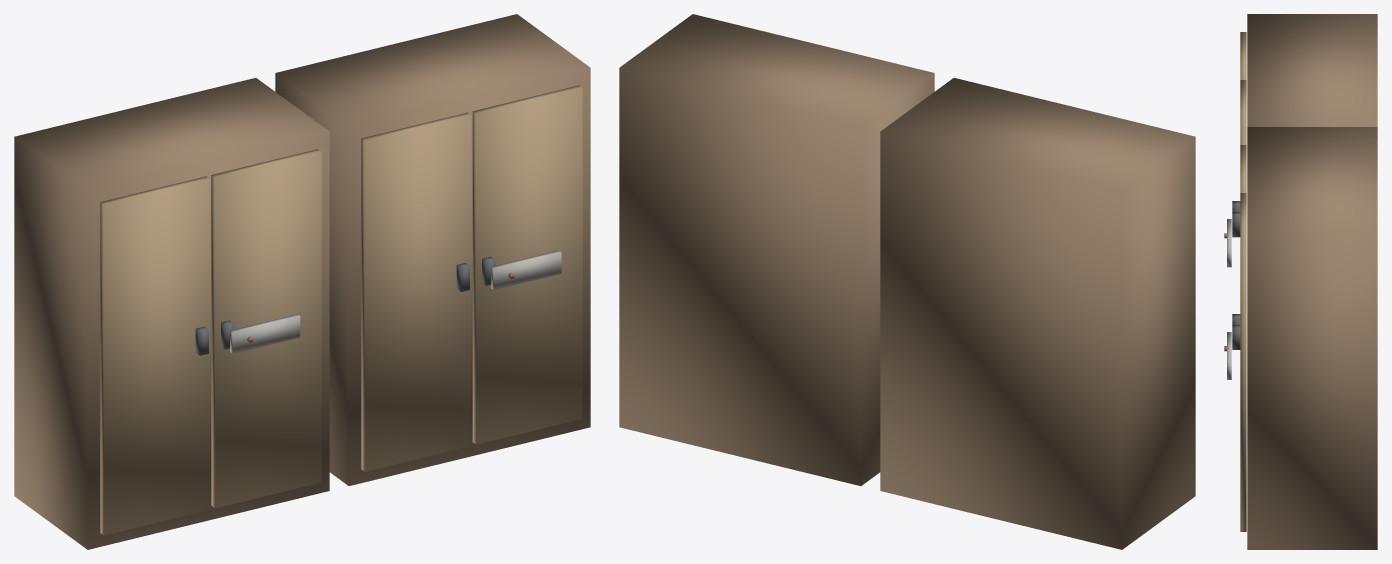
Rendered from photo_chemical_cabinet__cluster.glb.
The picture shows the model from 3 angles, left to right: view 1: azimuth 30°, elevation 25°; view 2: azimuth 150°, elevation 25°; view 3: azimuth 270°, elevation 25°; orthographic projection. The views are drawn at different scales.
Visible parts, largest first — view 1: world; view 2: world; view 3: world.
Part boxes in pixels (x1,y1,x2,y2): world: (14, 14, 590, 549); world: (619, 14, 1195, 549); world: (1224, 14, 1377, 549).
Bounding box in the file's own units: 1.98 × 1.35 × 0.5885.
